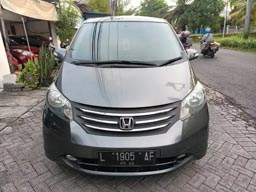plat: (98, 152, 155, 161)
